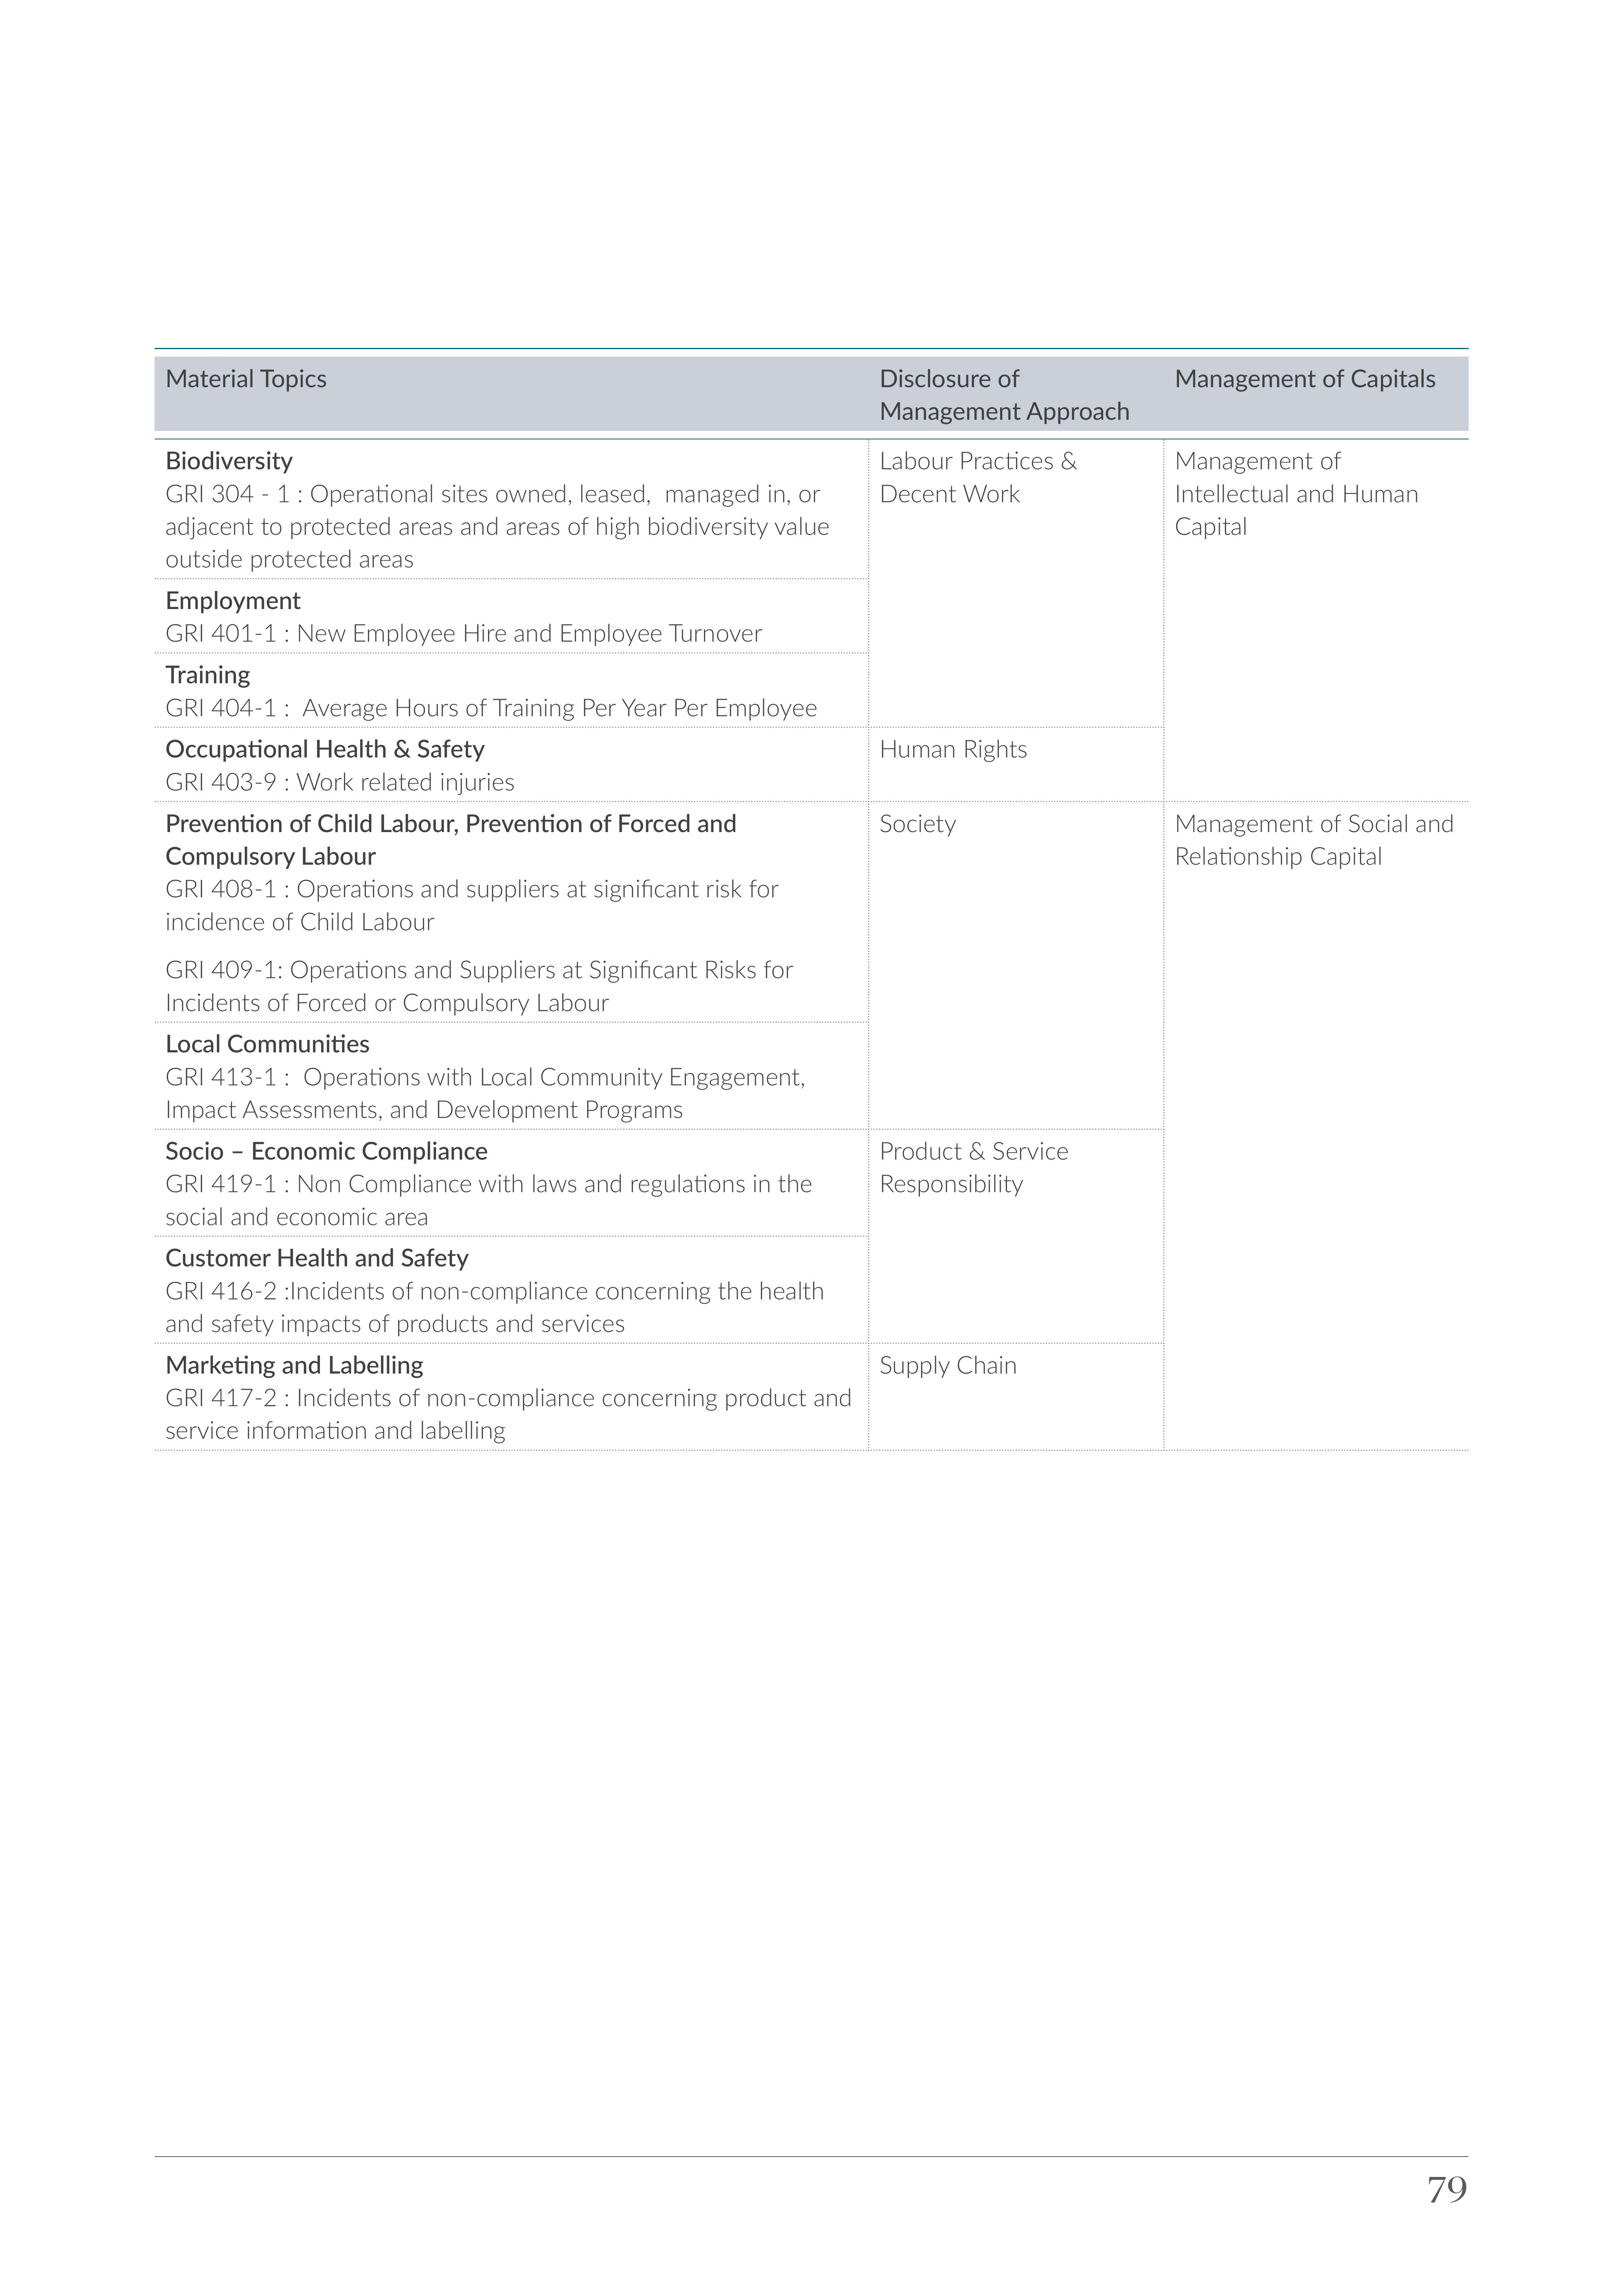table: (148, 337, 1479, 1462)
